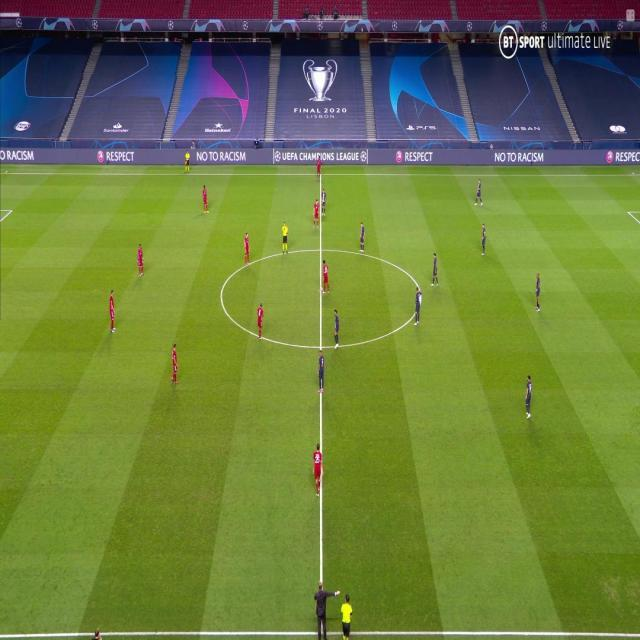player: (312, 443, 324, 499), (524, 374, 534, 420), (316, 351, 326, 396), (412, 283, 422, 327), (170, 343, 180, 386), (108, 288, 117, 334), (255, 302, 265, 342), (332, 308, 341, 350), (534, 271, 542, 312), (430, 252, 439, 288), (201, 184, 211, 216), (136, 243, 145, 278), (321, 259, 330, 294), (474, 178, 484, 207), (243, 231, 251, 267), (358, 221, 366, 254), (312, 197, 320, 229), (480, 221, 487, 256), (315, 153, 323, 183), (321, 188, 327, 220)
referee: (341, 594, 354, 640), (281, 220, 289, 257), (185, 151, 191, 177)
